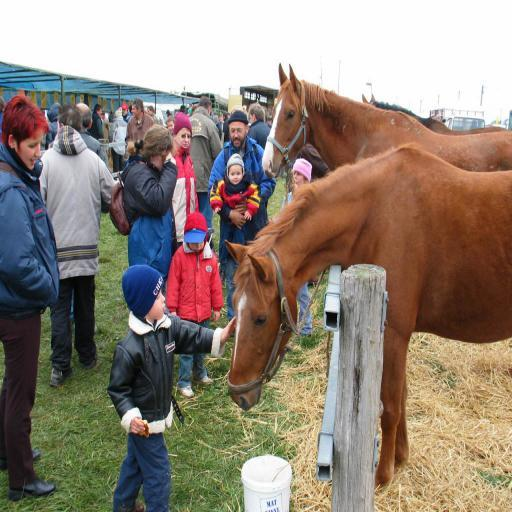Horse: (223, 143, 512, 499), (261, 65, 512, 180), (363, 94, 511, 139)
